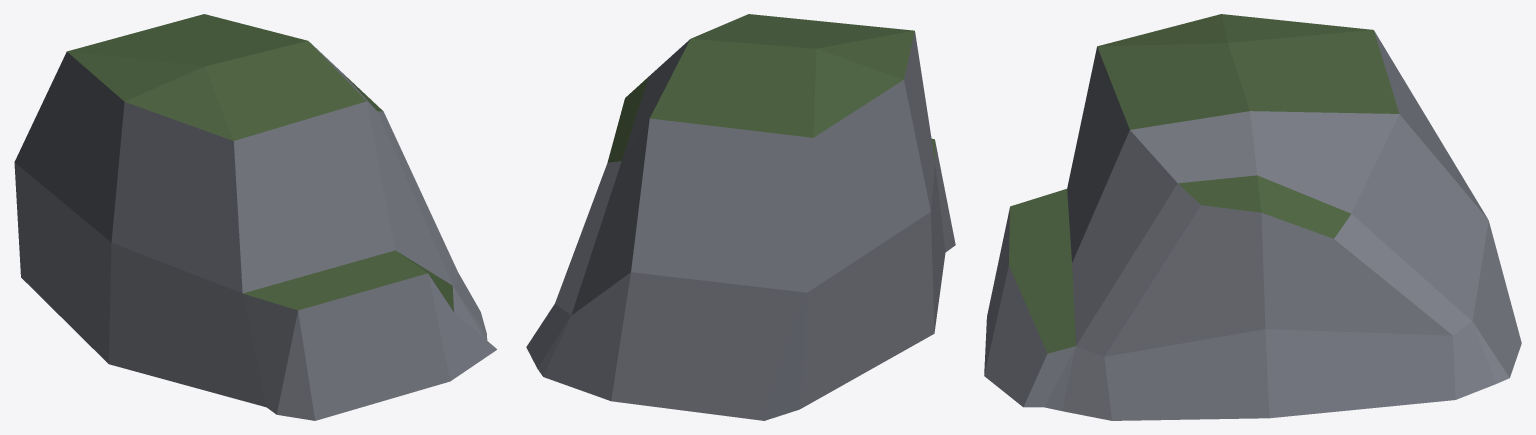
File: Rock_Moss_5.gltf
3 renders of one model, left to right at view 1: azimuth 30°, elevation 25°; view 2: azimuth 150°, elevation 25°; view 3: azimuth 270°, elevation 25°, orthographic. The views are drawn at different scales.
Parts seen in each view (by area): view 1: Rock_Moss_5; view 2: Rock_Moss_5; view 3: Rock_Moss_5.
Boxes of the visible parts, <box> form: Rock_Moss_5: <box>14,14,496,420</box>; Rock_Moss_5: <box>526,14,955,420</box>; Rock_Moss_5: <box>984,14,1521,420</box>.
Size of the model in its own units: 0.6632 by 0.5767 by 0.9148.
